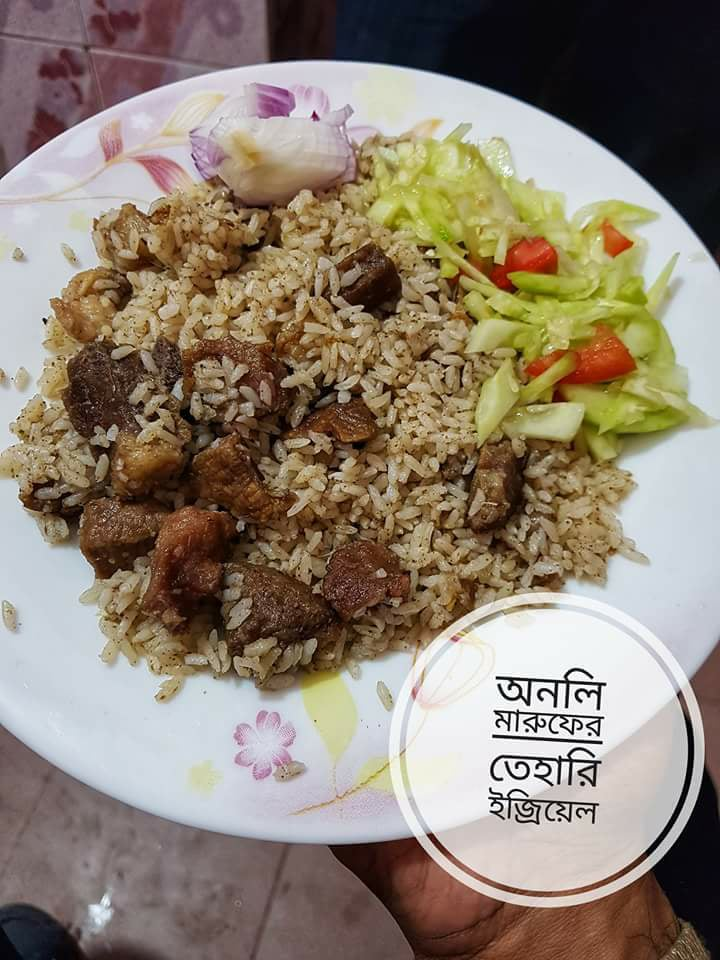tehari: (14, 138, 647, 670)
